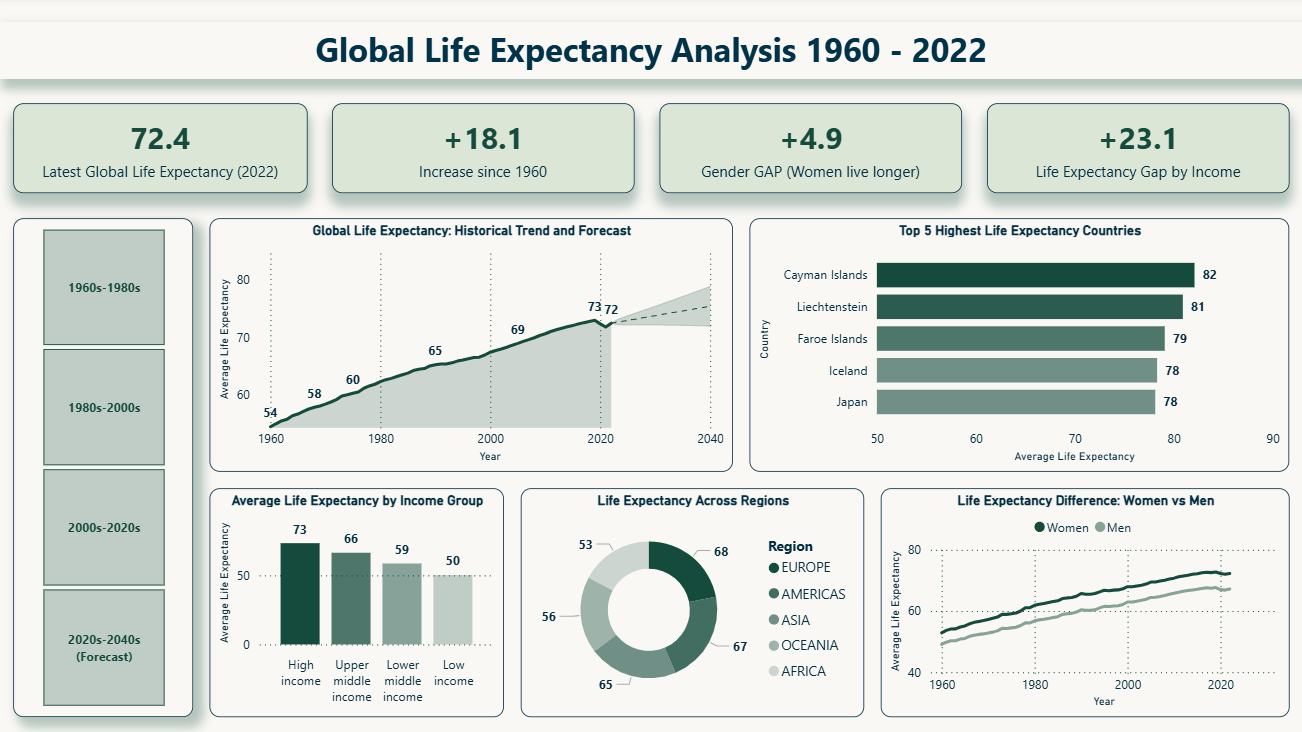

Layout of this report page (visuals, bound fields, positions):
{"tool":"powerbi","page":{"name":"Page 1","canvas":[1280,720],"ordinal":0},"visuals":[{"type":"textbox","box":[0,24,1280,56],"z":0},{"type":"card","fields":{"Values":["expectancy.Global Life Expectancy (2022)"]},"box":[16,104,288,88],"z":1000},{"type":"card","fields":{"Values":["expectancy.Increase since 1960"]},"box":[328,104,296,88],"z":2000},{"type":"card","fields":{"Values":["gender.Gender Life Expectancy Gap (Women live longer)"]},"box":[648,104,296,88],"z":3000},{"type":"card","fields":{"Values":["expectancy.Life Expectancy Gap by Income (People in High-Income Countries Live Longer)"]},"box":[968,104,296,88],"z":4000},{"type":"lineChart","title":"Global Life Expectancy: Historical Trend and Forecast","fields":{"Category":["expectancy.Year"],"Y":["Avg(expectancy.Life Expectancy)"]},"box":[208,216,512,248],"z":5000},{"type":"clusteredBarChart","title":"Top 5 Highest Life Expectancy Countries","fields":{"Category":["expectancy.Country Name"],"Y":["Avg(expectancy.Life Expectancy)"]},"box":[736,216,528,248],"z":6000},{"type":"clusteredColumnChart","title":"Average Life Expectancy by Income Group","fields":{"Category":["expectancy.IncomeGroup"],"Y":["Avg(expectancy.Life Expectancy)"]},"box":[208,480,288,224],"z":7000},{"type":"slicer","fields":{"Values":["expectancy.Decade"]},"box":[16,216,176,488],"z":8000},{"type":"donutChart","title":"Life Expectancy Across Regions","fields":{"Category":["gender.region"],"Y":["gender.life_expectancy_total_2022"]},"box":[512,480,336,224],"z":9000},{"type":"lineChart","title":"Life Expectancy Difference: Women vs Men","fields":{"Category":["gender.year"],"Y":["Avg(gender.life_expectancy_women)","Avg(gender.life_expectancy_men)"]},"box":[864,480,400,224],"z":10000}]}

Visuals, with their boxes in screenshot pixels (x1, y1, x2, y2), scaled from the page's 1280x720 canvas onto the 1302x732 screenshot:
textbox: <bbox>0, 24, 1301, 81</bbox>
card - expectancy.Global Life Expectancy (2022): <bbox>16, 106, 309, 195</bbox>
card - expectancy.Increase since 1960: <bbox>334, 106, 635, 195</bbox>
card - gender.Gender Life Expectancy Gap (Women live longer): <bbox>659, 106, 960, 195</bbox>
card - expectancy.Life Expectancy Gap by Income (People in High-Income Countries Live Longer): <bbox>985, 106, 1286, 195</bbox>
"Global Life Expectancy: Historical Trend and Forecast" lineChart: <bbox>212, 220, 732, 472</bbox>
"Top 5 Highest Life Expectancy Countries" clusteredBarChart: <bbox>749, 220, 1286, 472</bbox>
"Average Life Expectancy by Income Group" clusteredColumnChart: <bbox>212, 488, 505, 716</bbox>
slicer - expectancy.Decade: <bbox>16, 220, 195, 716</bbox>
"Life Expectancy Across Regions" donutChart: <bbox>521, 488, 863, 716</bbox>
"Life Expectancy Difference: Women vs Men" lineChart: <bbox>879, 488, 1286, 716</bbox>
